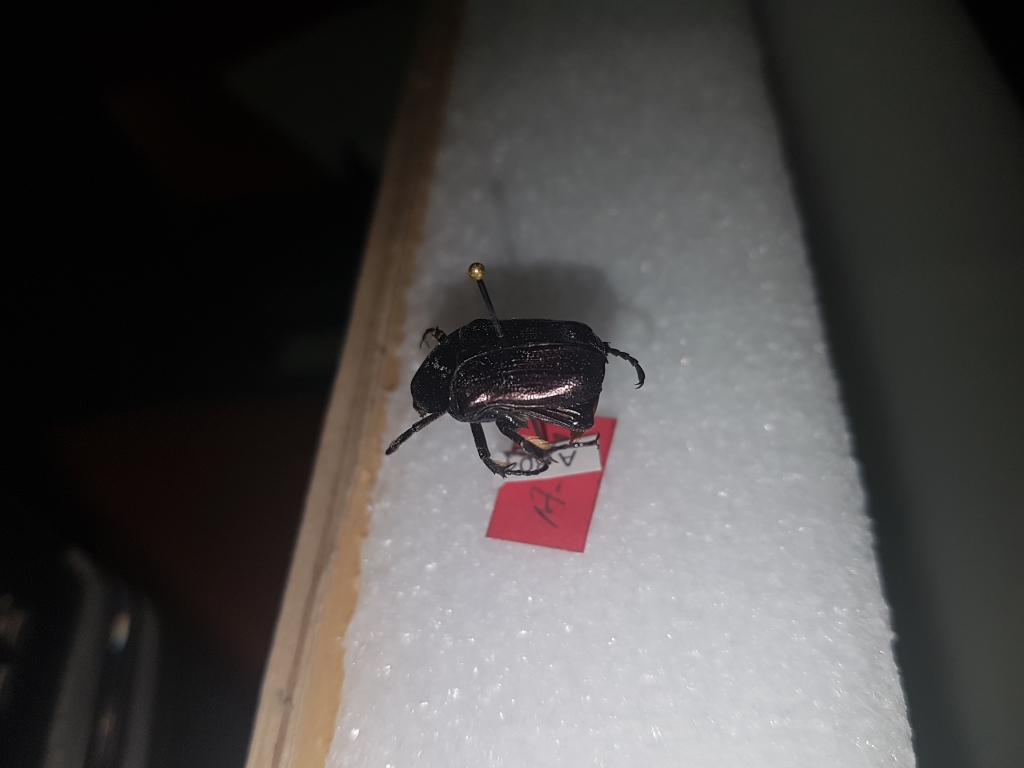Protaetia_besucheti: (375, 303, 646, 491)
